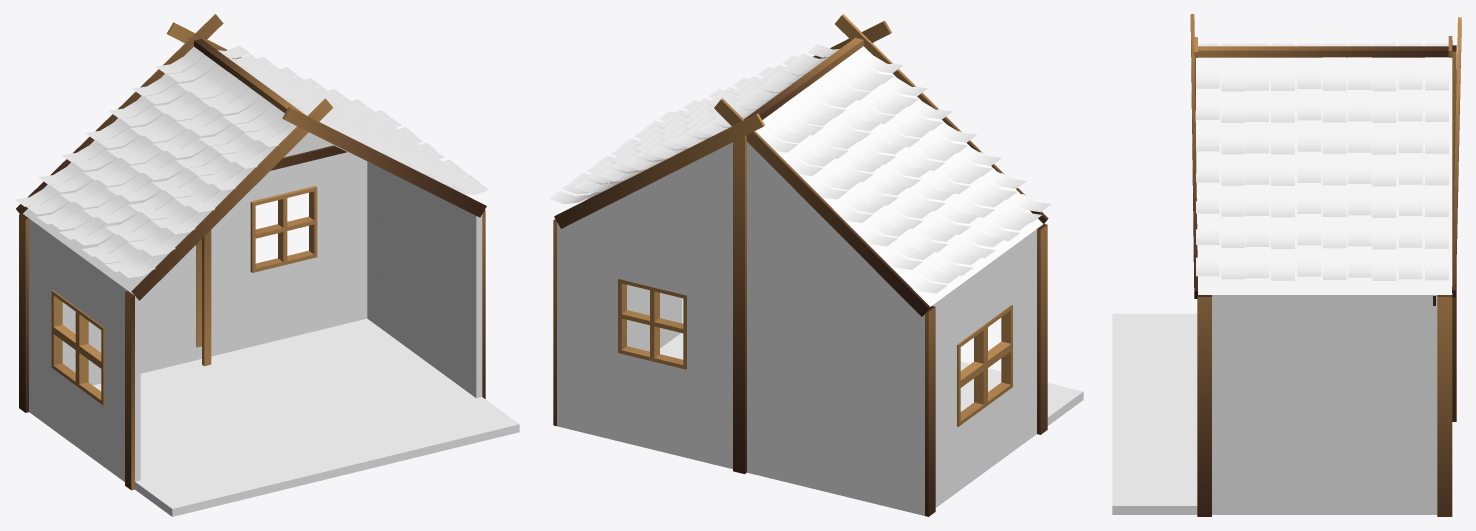
File: obj-huis-v1.FBX
3 renders of one model, left to right at view 1: azimuth 30°, elevation 25°; view 2: azimuth 150°, elevation 25°; view 3: azimuth 270°, elevation 25°, orthographic. The views are drawn at different scales.
Parts seen in each view (by area): view 1: obj-huis-v1; view 2: obj-huis-v1; view 3: obj-huis-v1.
Part boxes in pixels (x1,y1,x2,y2): obj-huis-v1: (15,14,519,516); obj-huis-v1: (549,14,1083,516); obj-huis-v1: (1112,14,1461,516).
Size of the model in its own units: 25.42 by 22.84 by 18.39.
